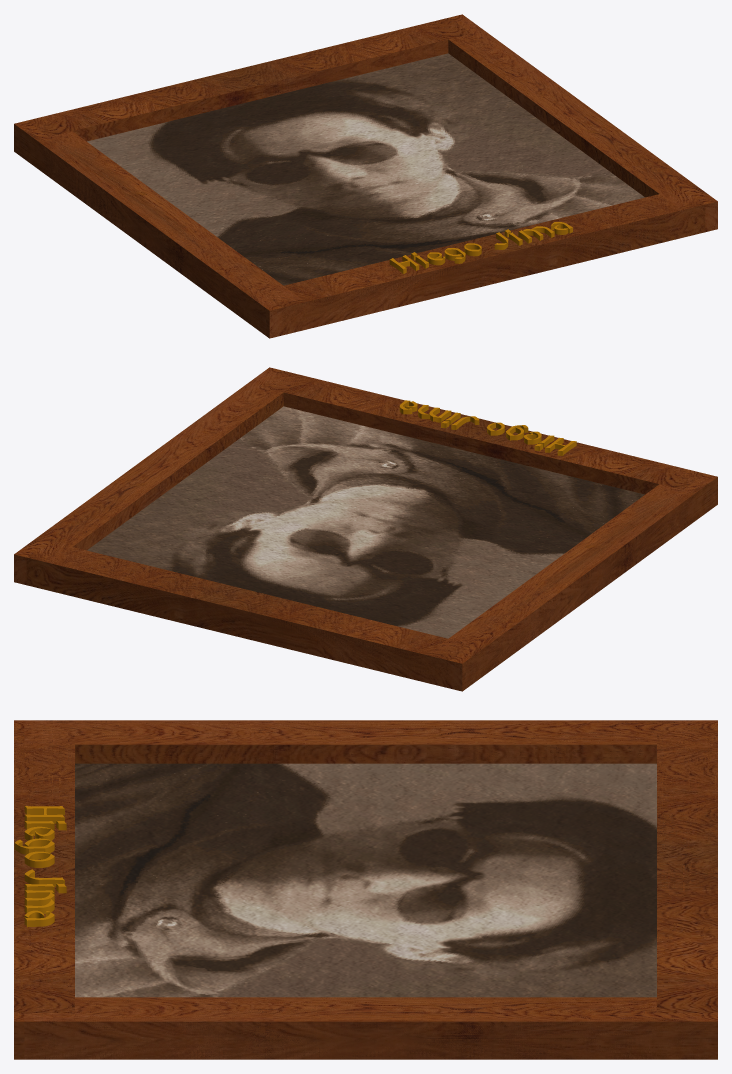
Rendered from monkframe3.glb.
3 views of the same model, one above another, from view 1: azimuth 30°, elevation 25°; view 2: azimuth 150°, elevation 25°; view 3: azimuth 270°, elevation 25° (orthographic). The views are drawn at different scales.
Parts seen in each view (by area): view 1: Plane, Cube, William Dafilo; view 2: Plane, Cube, William Dafilo; view 3: Plane, Cube, William Dafilo.
Part boxes in pixels (left/top/right/bottom): Plane: left=87, top=53, right=644, bottom=285; Cube: left=14, top=14, right=717, bottom=338; William Dafilo: left=389, top=222, right=572, bottom=274; Plane: left=87, top=406, right=644, bottom=638; Cube: left=14, top=367, right=717, bottom=691; William Dafilo: left=399, top=400, right=576, bottom=455; Plane: left=75, top=763, right=656, bottom=997; Cube: left=14, top=720, right=717, bottom=1059; William Dafilo: left=14, top=806, right=66, bottom=927.
Size of the model in its own units: 0.6936 by 0.0482 by 0.6847.
Materials: 3 (2 with a texture image).
